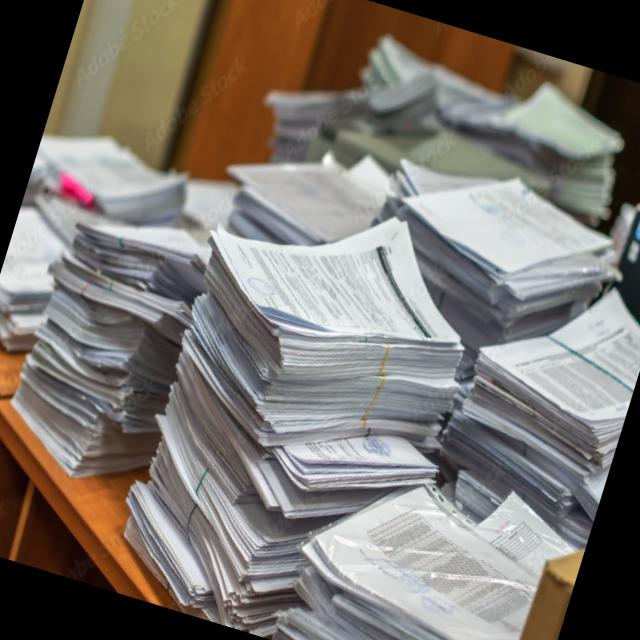KertasBekas: (98, 162, 506, 640), (0, 194, 221, 499)
